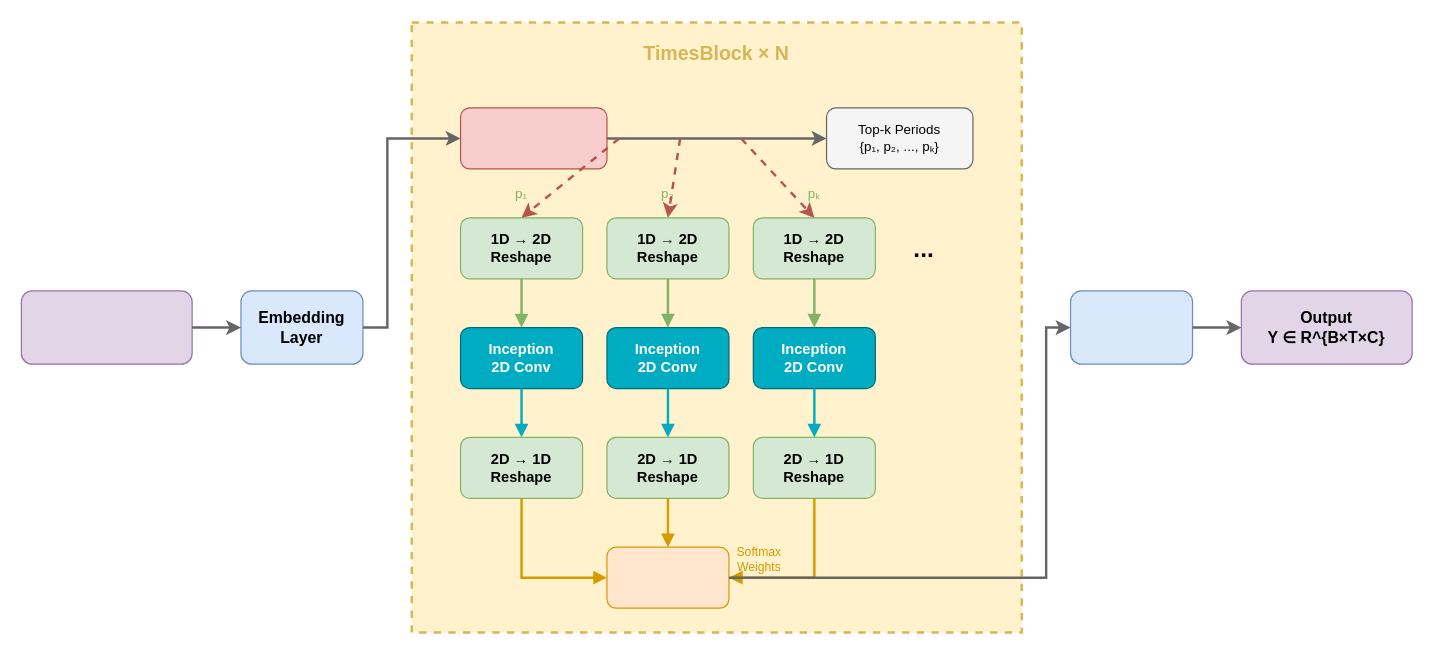
This 1434x654 diagram has some shape labels left out. The shapes that lost their labels are listed below. From the top down, each one's box as (x1, y1, x2, y2) in pixels, then its label:
(459, 107, 607, 169): FFT Period Discovery
(20, 290, 192, 364): Input Time Series X ∈ R^{B×T×C}
(1069, 290, 1193, 364): Projection Layer
(606, 546, 729, 608): Adaptive Aggregation
